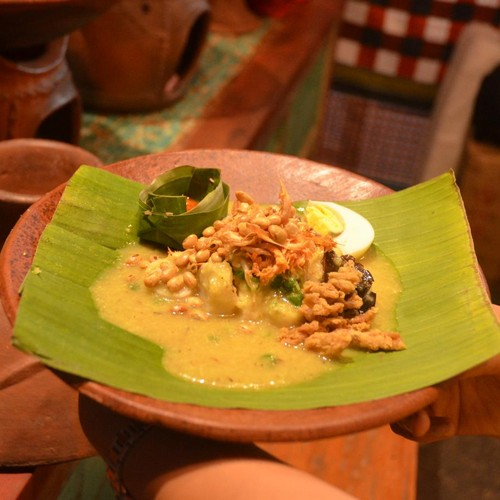tipat blayag: (127, 187, 386, 377)
